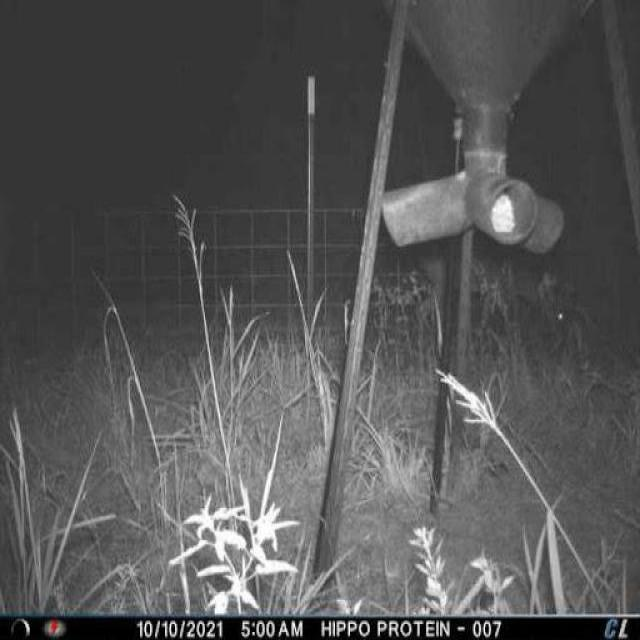deer: (404, 232, 588, 380)
